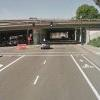Bridge: (2, 10, 95, 37)
